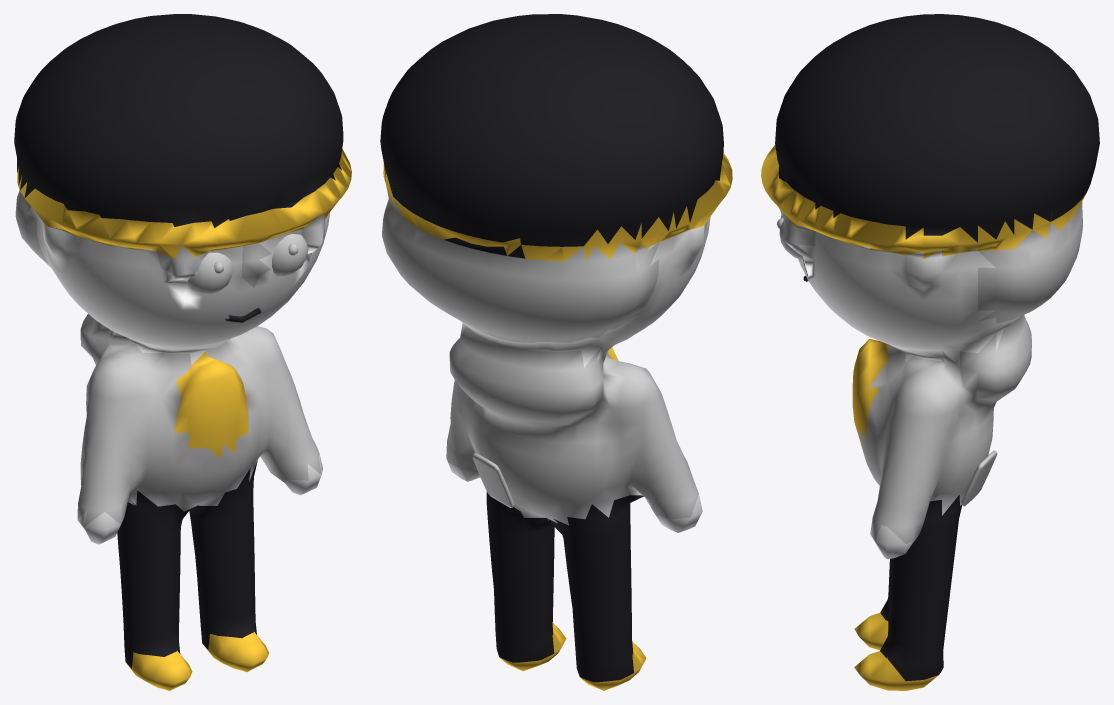
The model's file is idol_boy_f.fbx.
3 renders of one model, left to right at view 1: azimuth 30°, elevation 25°; view 2: azimuth 150°, elevation 25°; view 3: azimuth 270°, elevation 25°, orthographic. The views are drawn at different scales.
Visible parts, largest first — view 1: idol_boy_f; view 2: idol_boy_f; view 3: idol_boy_f.
Part boxes in pixels (x1=…): idol_boy_f: x1=14, y1=14, x2=351, y2=690; idol_boy_f: x1=380, y1=14, x2=732, y2=690; idol_boy_f: x1=761, y1=14, x2=1099, y2=690.
Size of the model in its own units: 0.6093 by 1.24 by 0.6044.
